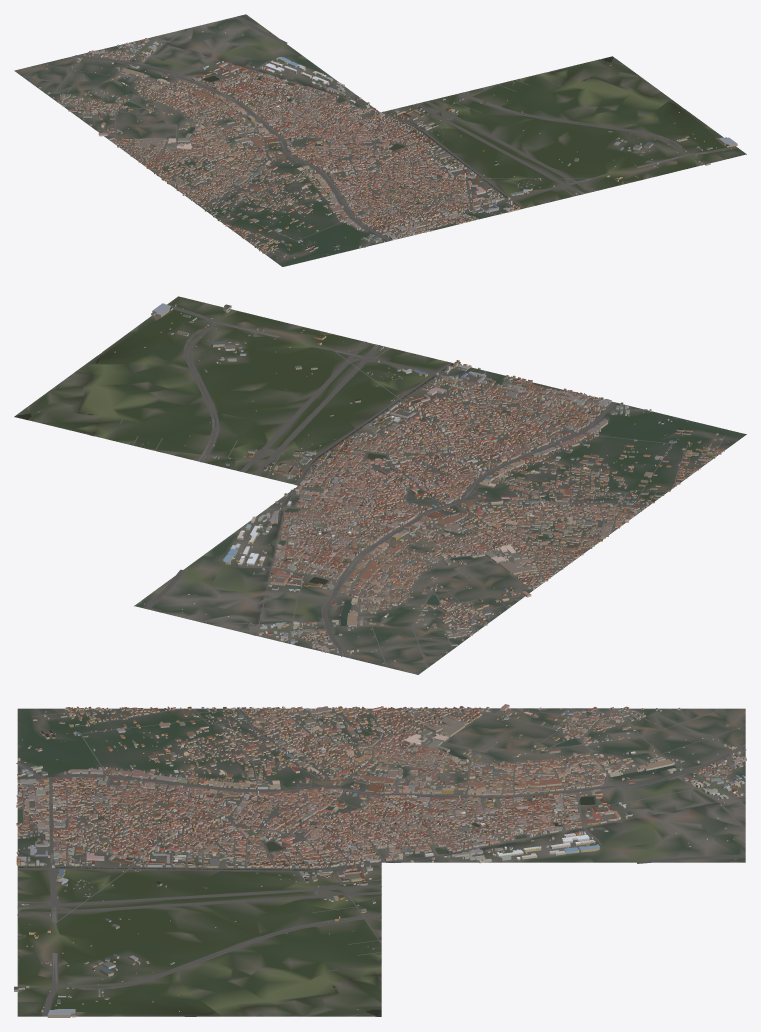
The picture shows the model from 3 angles, top to bottom: view 1: azimuth 30°, elevation 25°; view 2: azimuth 150°, elevation 25°; view 3: azimuth 270°, elevation 25°; orthographic projection. The views are drawn at different scales.
Visible parts, largest first — view 1: ground, buildings, roads, water; view 2: ground, buildings, roads, water; view 3: ground, buildings, roads, water.
Boxes of the visible parts, bbox=[...] form: ground: bbox=[14, 14, 746, 266]; buildings: bbox=[38, 17, 737, 258]; roads: bbox=[22, 16, 736, 260]; water: bbox=[123, 44, 680, 229]; ground: bbox=[14, 296, 746, 674]; buildings: bbox=[37, 303, 728, 663]; roads: bbox=[120, 304, 725, 667]; water: bbox=[14, 355, 560, 625]; ground: bbox=[17, 708, 745, 1016]; buildings: bbox=[14, 704, 746, 1017]; roads: bbox=[16, 708, 746, 1016]; water: bbox=[18, 739, 714, 1016].
Size of the model in its own units: 2833 by 33.54 by 2824.
